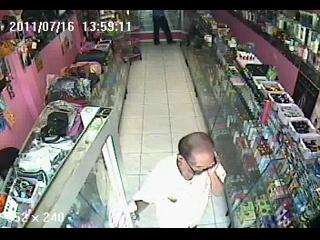Normal: (130, 131, 228, 229), (152, 10, 176, 46)
